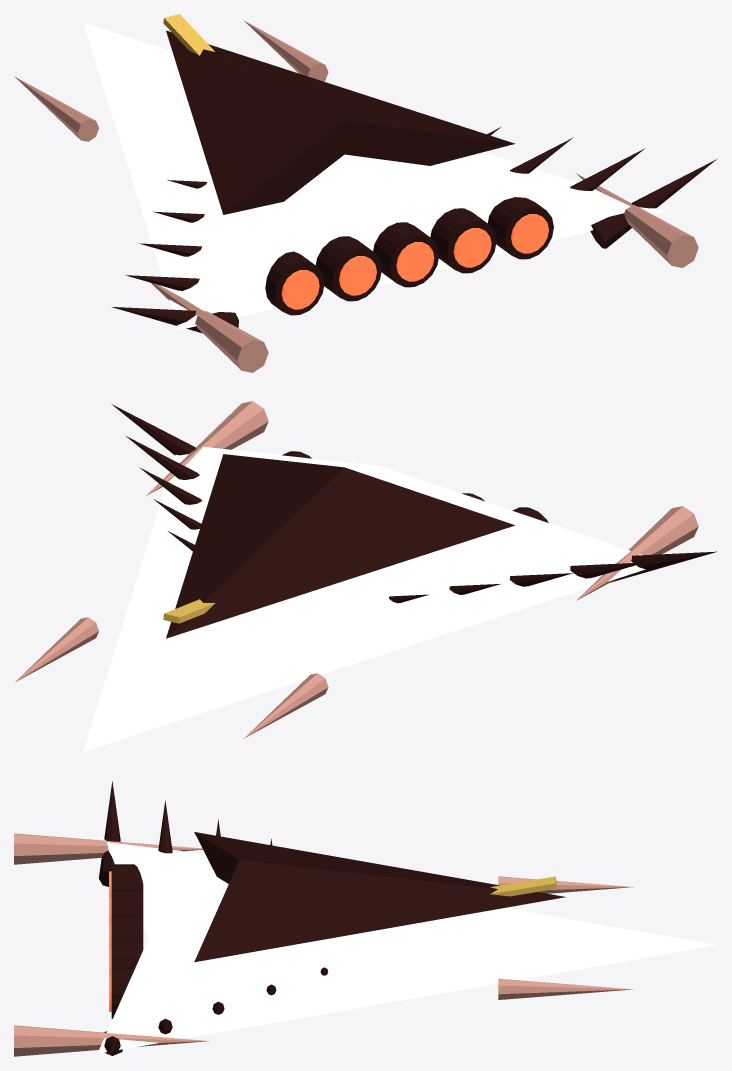
Rendered from ashkari_large.glb.
The picture shows the model from 3 angles, top to bottom: view 1: azimuth 30°, elevation 25°; view 2: azimuth 150°, elevation 25°; view 3: azimuth 270°, elevation 25°; orthographic projection. The views are drawn at different scales.
Visible parts, largest first — view 1: ashkari_large; view 2: ashkari_large; view 3: ashkari_large.
Boxes of the visible parts, x1=… form: ashkari_large: x1=14, y1=14, x2=716, y2=372; ashkari_large: x1=15, y1=401, x2=716, y2=751; ashkari_large: x1=14, y1=781, x2=717, y2=1056.
Size of the model in its own units: 9.12 by 1.98 by 10.
